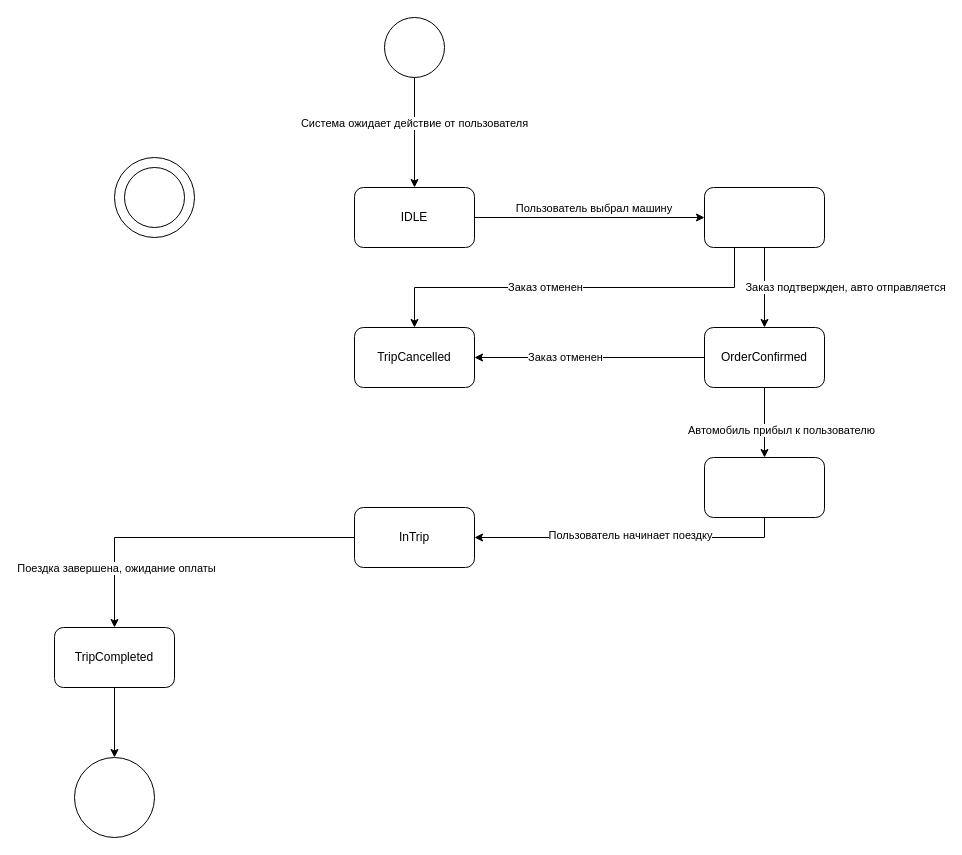
The diagram is 962 pixels wide and 855 high, and some of its shapes have lost their labels. The shapes that lost their labels are listed below. From the top down, each one's centre as x and y in pixels, then its label:
(764,217): CarSelected
(764,487): CarArrived
